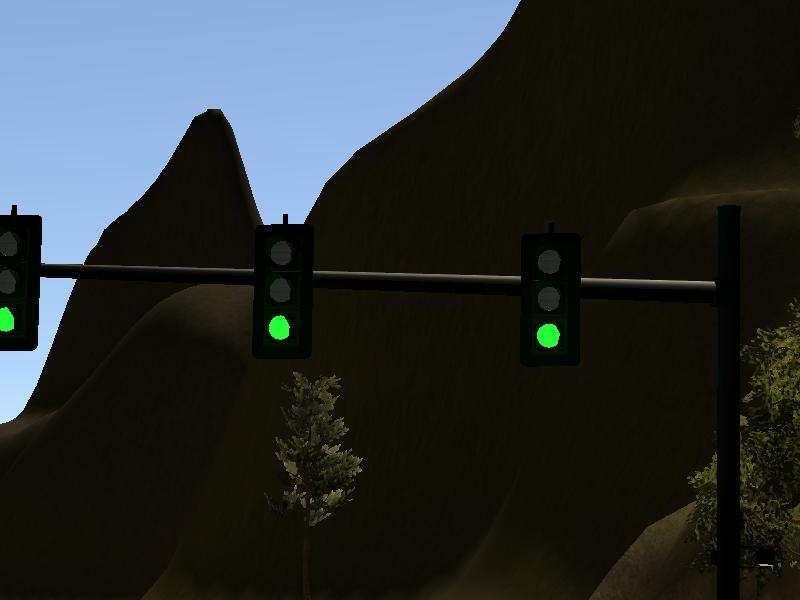GREEN: (251, 224, 311, 359), (522, 230, 576, 370), (1, 213, 40, 353)
